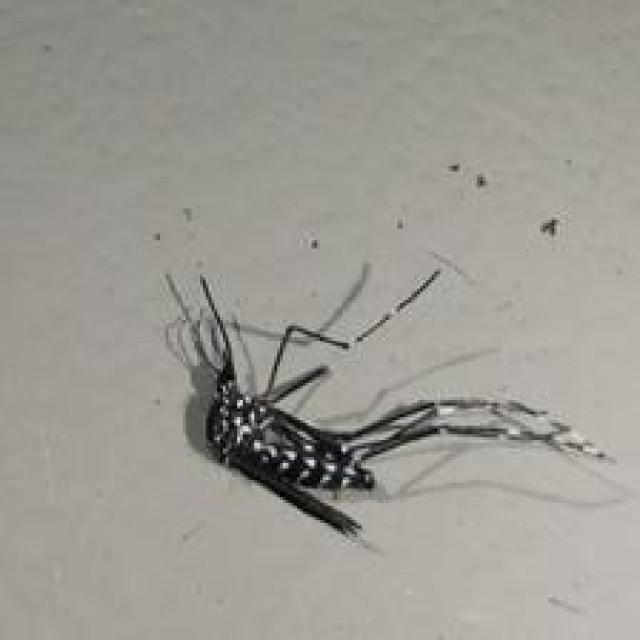Aedes albopictus: (162, 263, 622, 546)
